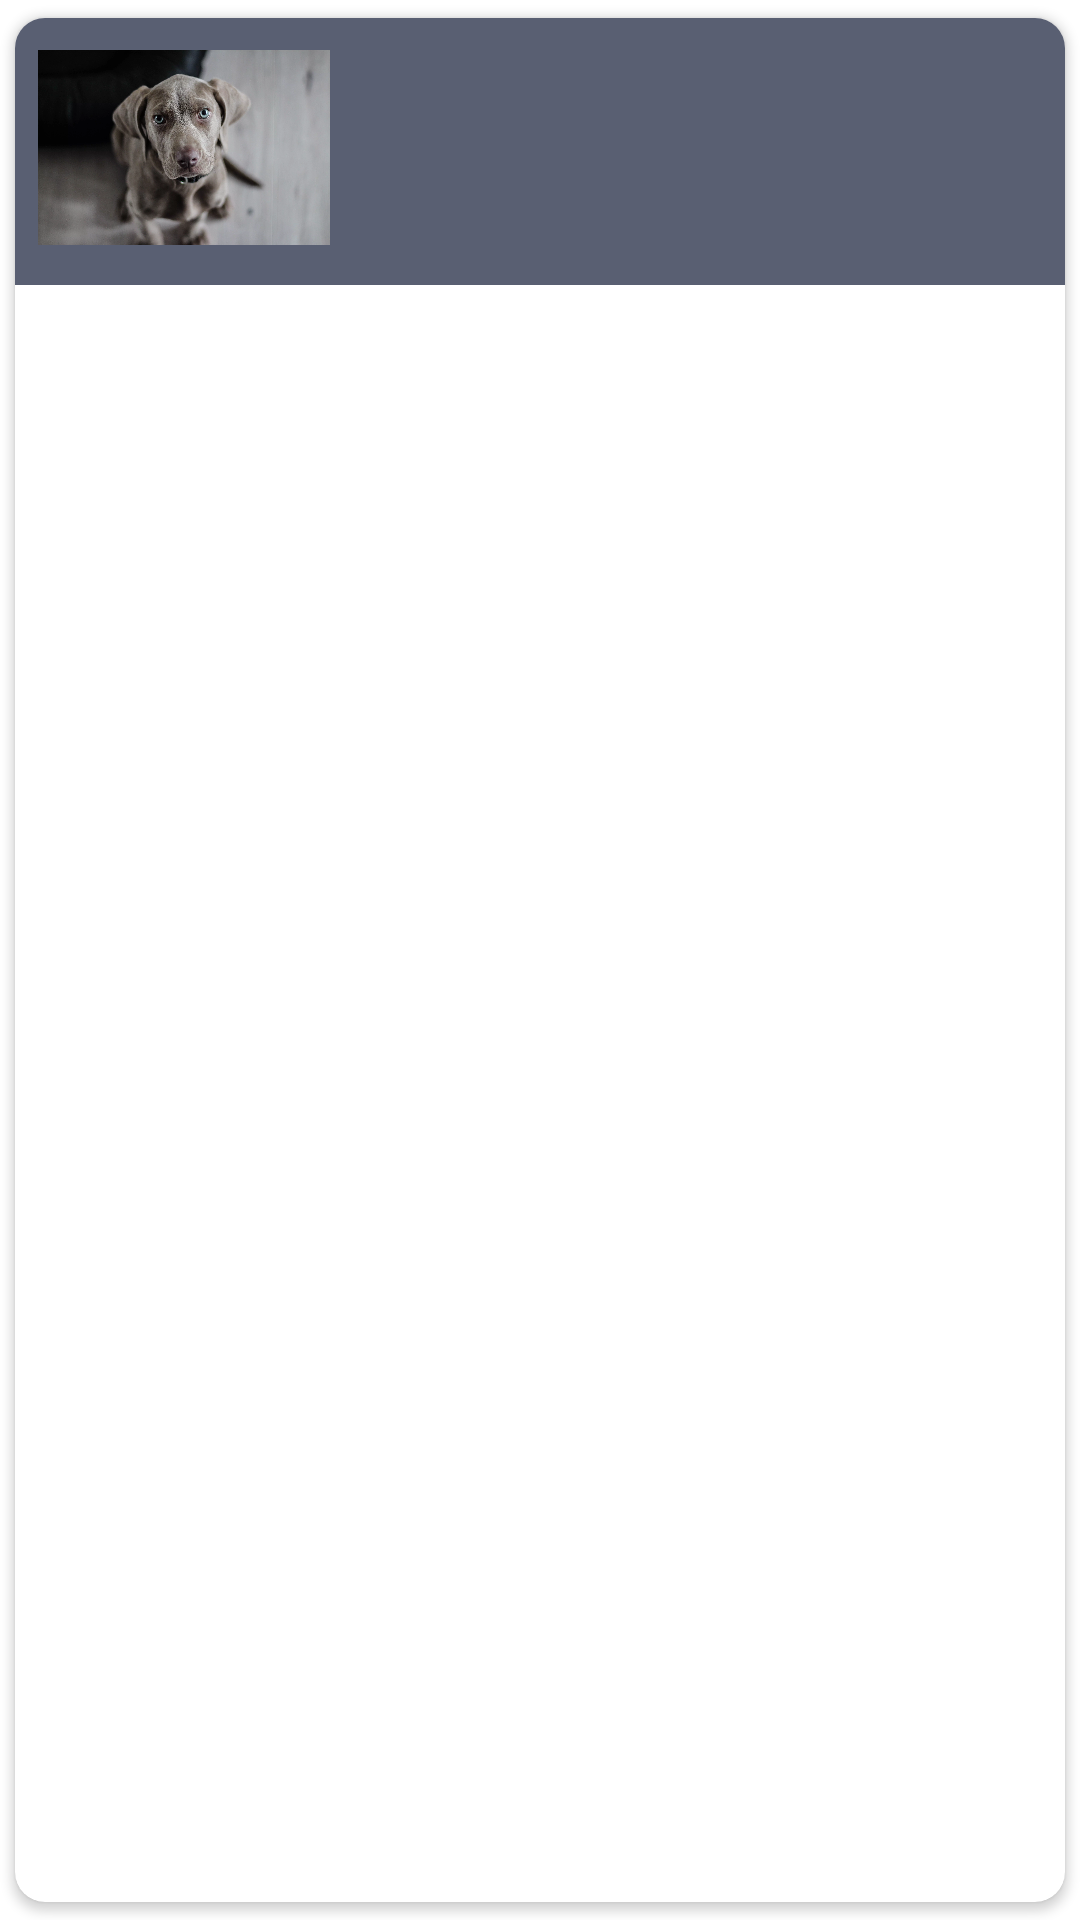

Icon click points for this 1080 × 1920 phone screenshot, format (x=x, y=y):
perrito: (x=184, y=147)
